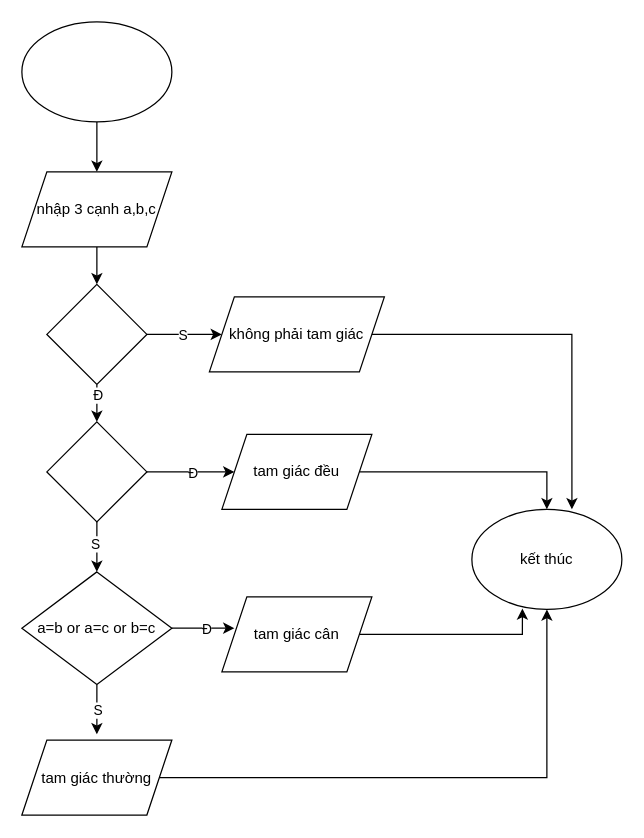
The diagram is 644 pixels wide and 838 high, and some of its shapes have lost their labels. Each missing label, with the centre of its shape:
"a+b>c a+c>b b+c>a" goes at (x=96, y=333).
"a=b=c" goes at (x=96, y=471).
"Bắt đầu" goes at (x=96, y=71).
